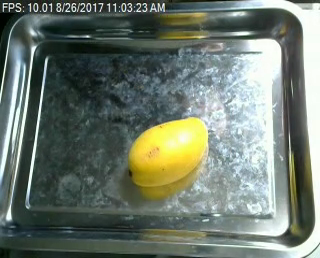Mango: (129, 106, 210, 188)
